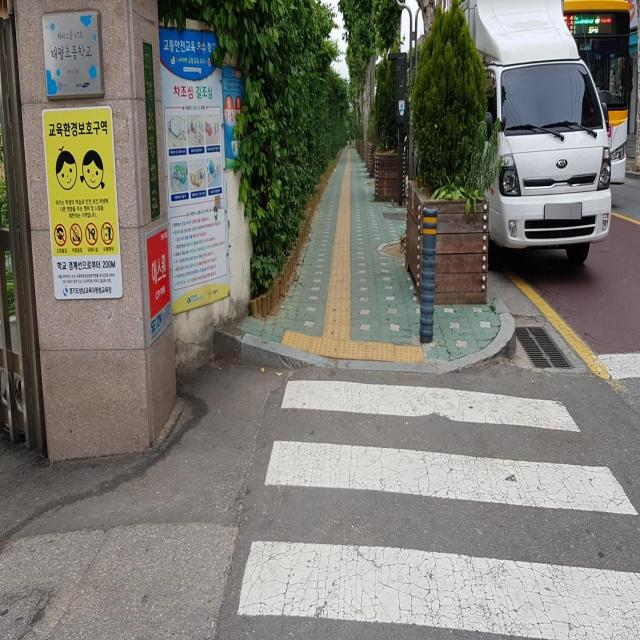횡단보도: (237, 378, 640, 640)
